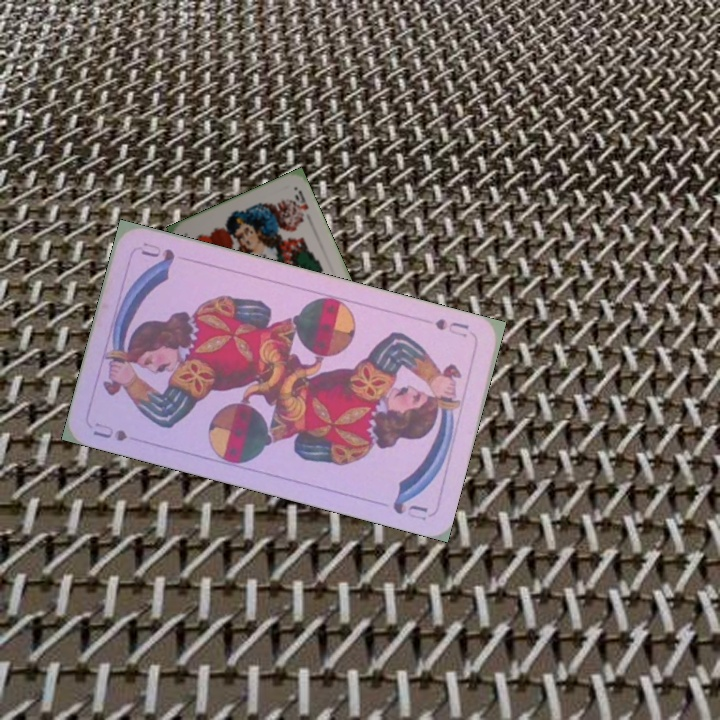SU: (88, 418, 130, 444), (431, 314, 472, 340)
